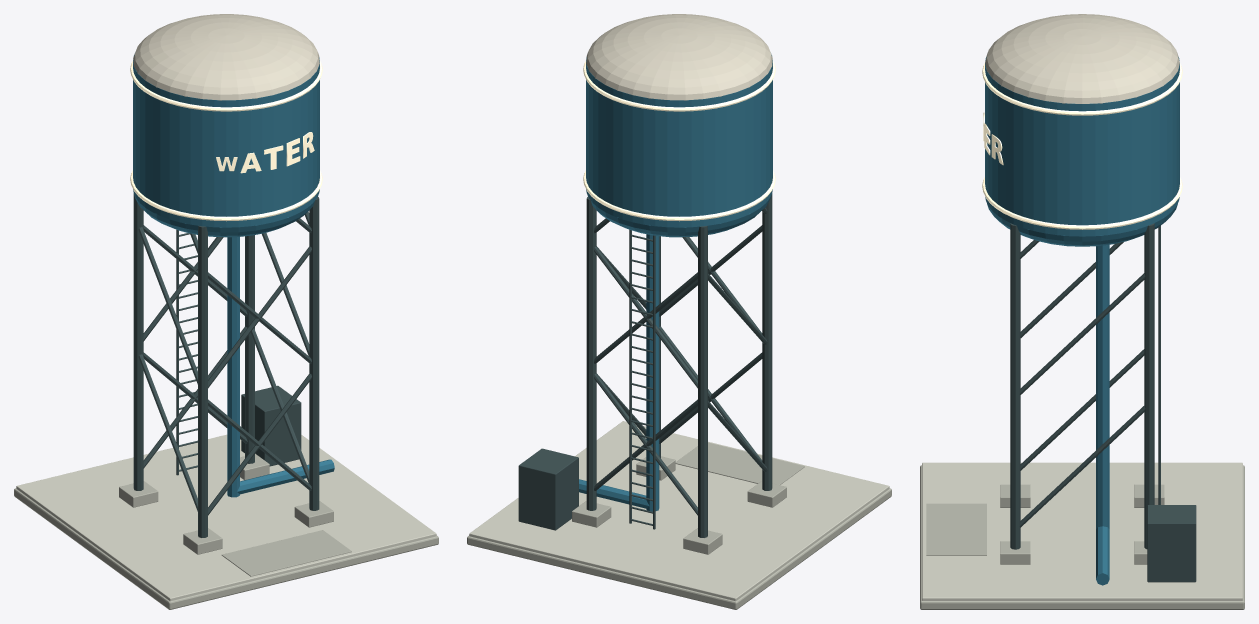
Rendered from water-water-tower.glb.
3 views of the same model, side by side, from view 1: azimuth 30°, elevation 25°; view 2: azimuth 150°, elevation 25°; view 3: azimuth 270°, elevation 25° (orthographic). The views are drawn at different scales.
Parts seen in each view (by area): view 1: Paving, ElevatedTank, TankRoof, Lot, TowerLeg.002, TowerLeg, RoadConnectionApron, TowerLeg.001, ServicePipe, ControlCabinet, TowerLeg.003, TankBottom (+18 smaller); view 2: Paving, ElevatedTank, TankRoof, ControlCabinet, Lot, TowerLeg.003, TowerLeg.001, TowerLeg, ServicePipe, RoadConnectionApron, TankBottom, Torus (+14 smaller); view 3: Paving, ElevatedTank, TankRoof, ControlCabinet, ServicePipe, TowerLeg.002, Lot, RoadConnectionApron, TowerLeg.003, TankBottom, Torus.001, Torus (+9 smaller).
Boxes of the visible parts, <box> form: Paving: <box>16,434,436,601</box>; ElevatedTank: <box>133,55,319,227</box>; TankRoof: <box>133,14,319,100</box>; Lot: <box>14,488,438,609</box>; TowerLeg.002: <box>309,197,319,510</box>; TowerLeg: <box>198,225,207,537</box>; RoadConnectionApron: <box>221,530,351,576</box>; TowerLeg.001: <box>133,194,143,490</box>; ServicePipe: <box>227,237,239,497</box>; ControlCabinet: <box>241,385,301,466</box>; TowerLeg.003: <box>245,235,254,463</box>; TankBottom: <box>134,194,314,237</box>; Paving: <box>469,421,889,601</box>; ElevatedTank: <box>586,55,772,227</box>; TankRoof: <box>586,14,772,100</box>; ControlCabinet: <box>518,448,578,530</box>; Lot: <box>467,488,891,609</box>; TowerLeg.003: <box>586,197,596,510</box>; TowerLeg.001: <box>698,225,707,537</box>; TowerLeg: <box>762,194,772,490</box>; ServicePipe: <box>646,234,659,511</box>; RoadConnectionApron: <box>675,442,804,484</box>; TankBottom: <box>591,194,771,237</box>; Torus: <box>583,170,775,221</box>; Paving: <box>922,462,1242,600</box>; ElevatedTank: <box>985,57,1179,236</box>; TankRoof: <box>985,14,1179,103</box>; ControlCabinet: <box>1147,505,1196,582</box>; ServicePipe: <box>1096,244,1109,528</box>; TowerLeg.002: <box>1010,223,1020,549</box>; Lot: <box>920,465,1244,609</box>; RoadConnectionApron: <box>926,503,986,555</box>; TowerLeg.003: <box>1144,223,1154,549</box>; TankBottom: <box>987,203,1177,246</box>; Torus.001: <box>982,63,1182,115</box>; Torus: <box>982,177,1182,229</box>.
Size of the model in its own units: 8 by 13.74 by 8.
